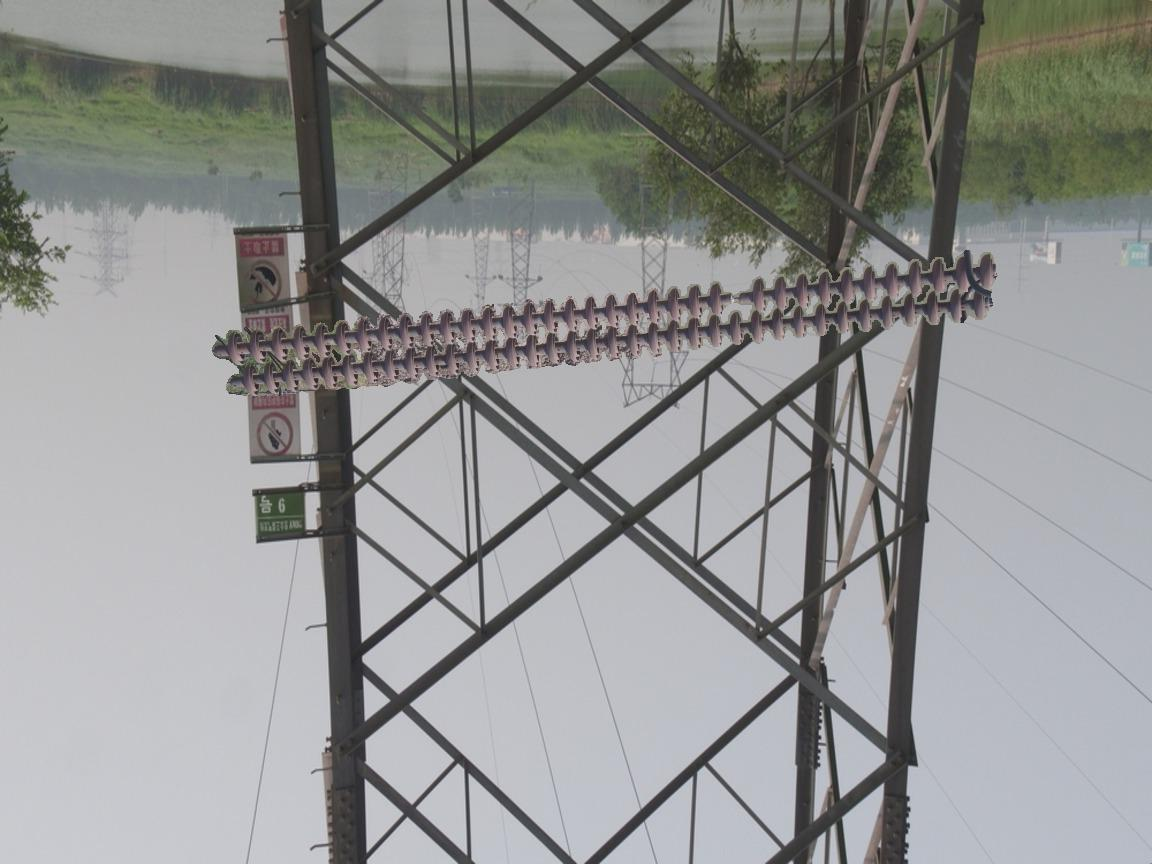insulator: (210, 244, 1001, 401)
insulator_stringdrop: (706, 275, 769, 319)
